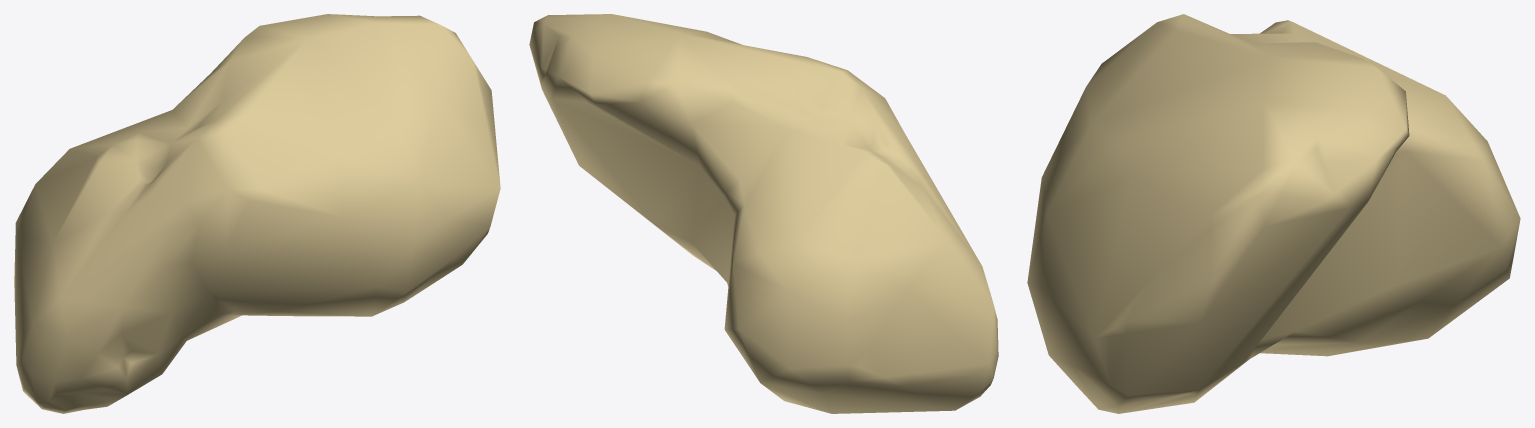
3 views of the same model, side by side, from view 1: azimuth 30°, elevation 25°; view 2: azimuth 150°, elevation 25°; view 3: azimuth 270°, elevation 25° (orthographic). The views are drawn at different scales.
Parts seen in each view (by area): view 1: 右侧手舟骨; view 2: 右侧手舟骨; view 3: 右侧手舟骨.
Boxes of the visible parts, x1=… form: 右侧手舟骨: x1=14, y1=14, x2=500, y2=413; 右侧手舟骨: x1=529, y1=14, x2=998, y2=413; 右侧手舟骨: x1=1027, y1=14, x2=1520, y2=413.
Bounding box in the file's own units: 0.0362 × 0.0234 × 0.0239.
